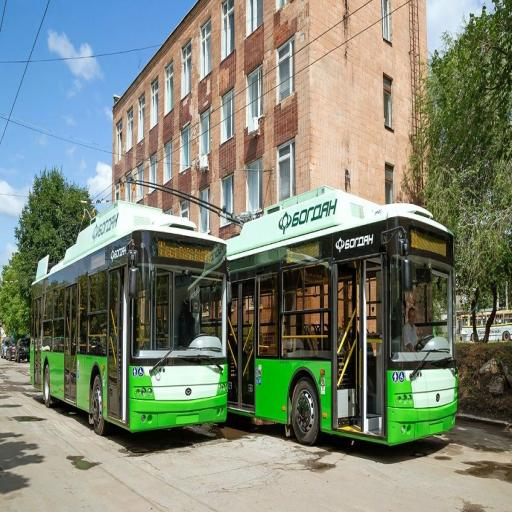bicycle: (228, 187, 457, 444), (31, 202, 227, 434), (489, 310, 511, 340)
ramp: (0, 360, 511, 511)
